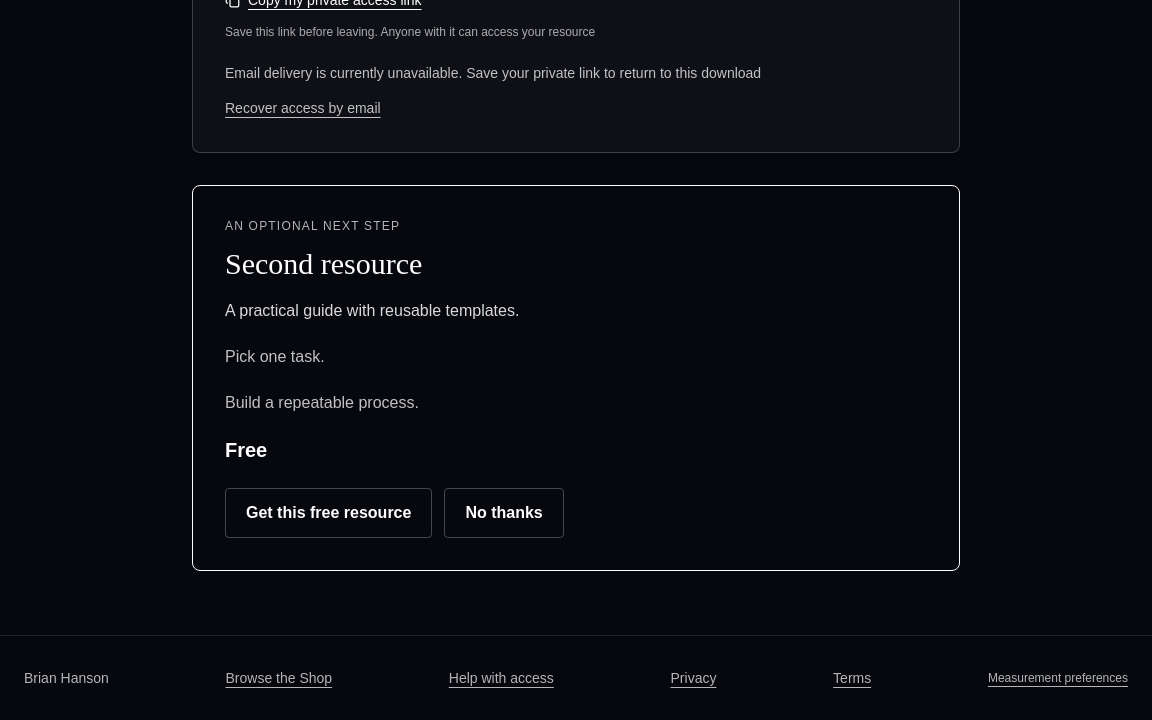
Test case: offer visitor journey › opens a free follow-up when only the access fragment changes
This screenshot has width=1152, height=720.
(page scrolled)
What coordinates should you click on to do the following:
click the button "Get this free resource"
I would click on:
 (329, 512)
Its box is [225,488,432,538].
(page scrolled)
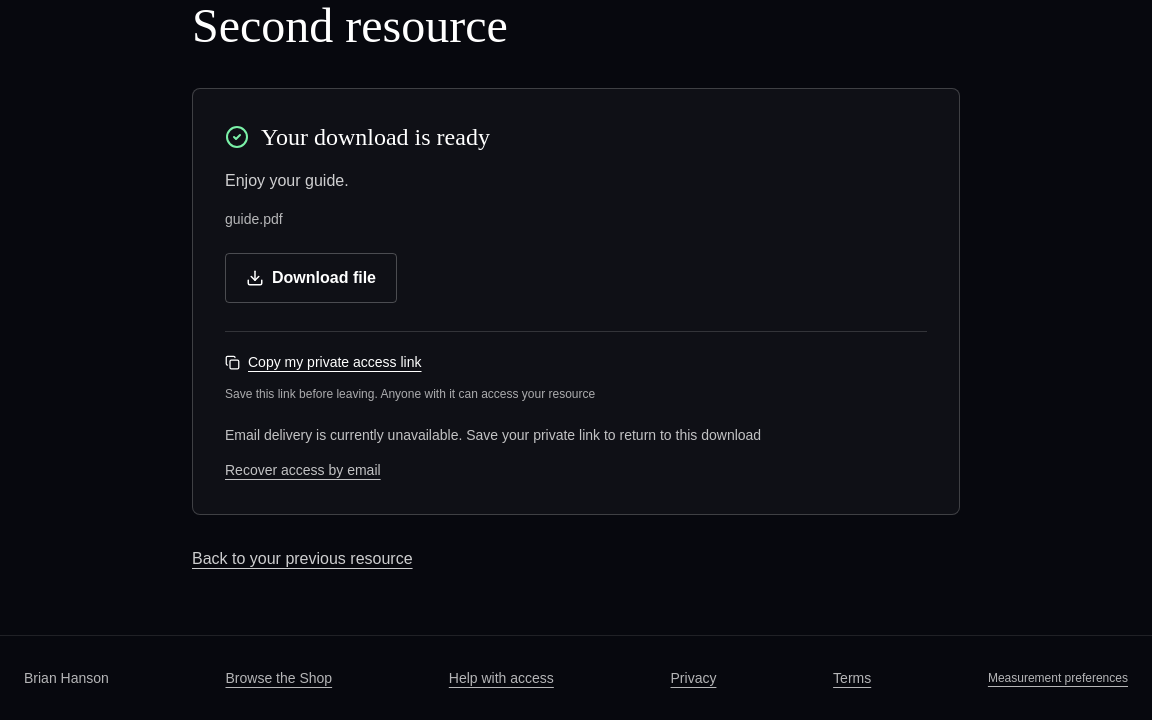
Result: the heading "Second resource" is shown at [192,0,508,52]
